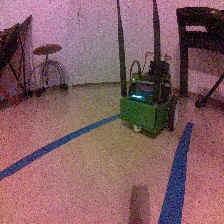rob: (118, 59, 181, 134)
